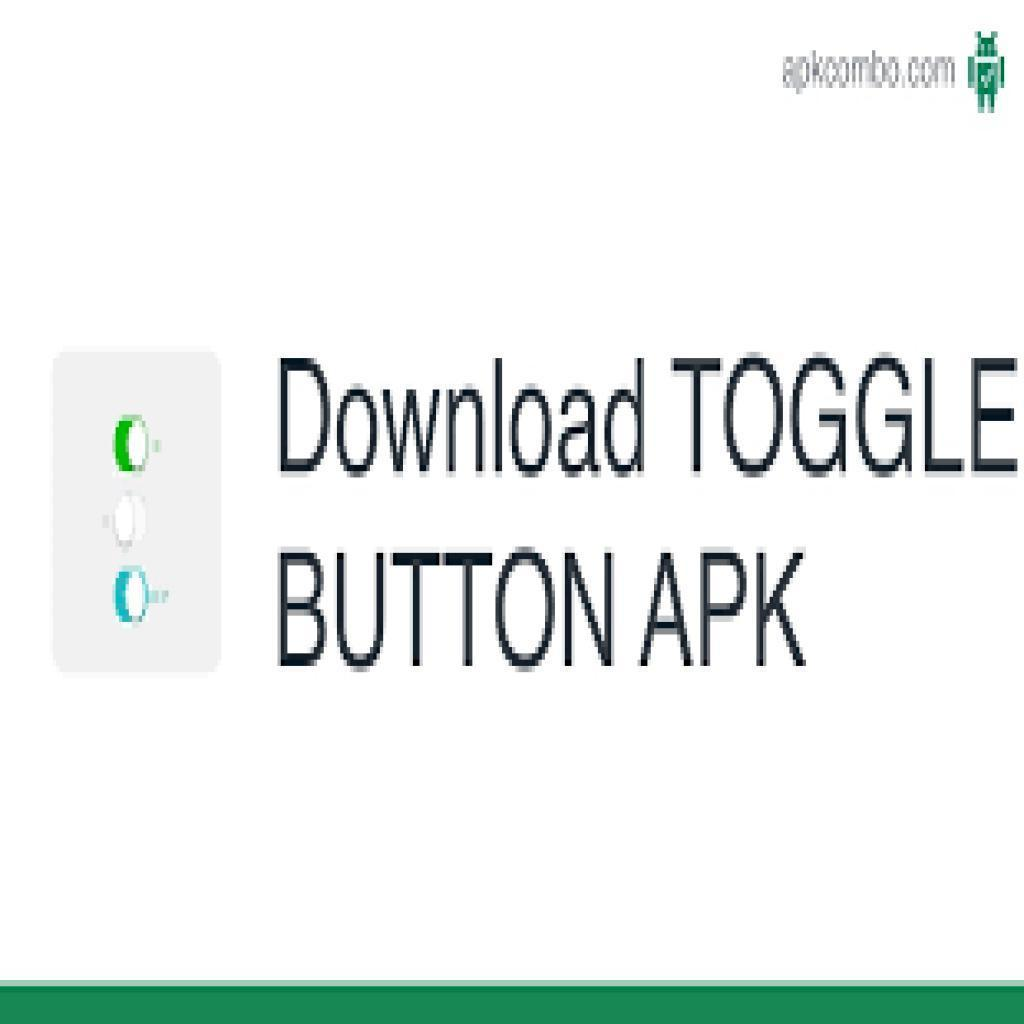switch: (108, 565, 153, 631), (110, 411, 154, 476), (112, 490, 149, 552)
